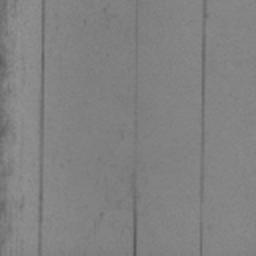Scratches: (38, 0, 46, 256), (201, 0, 208, 158), (132, 182, 138, 256), (200, 163, 205, 202), (199, 222, 203, 256)
